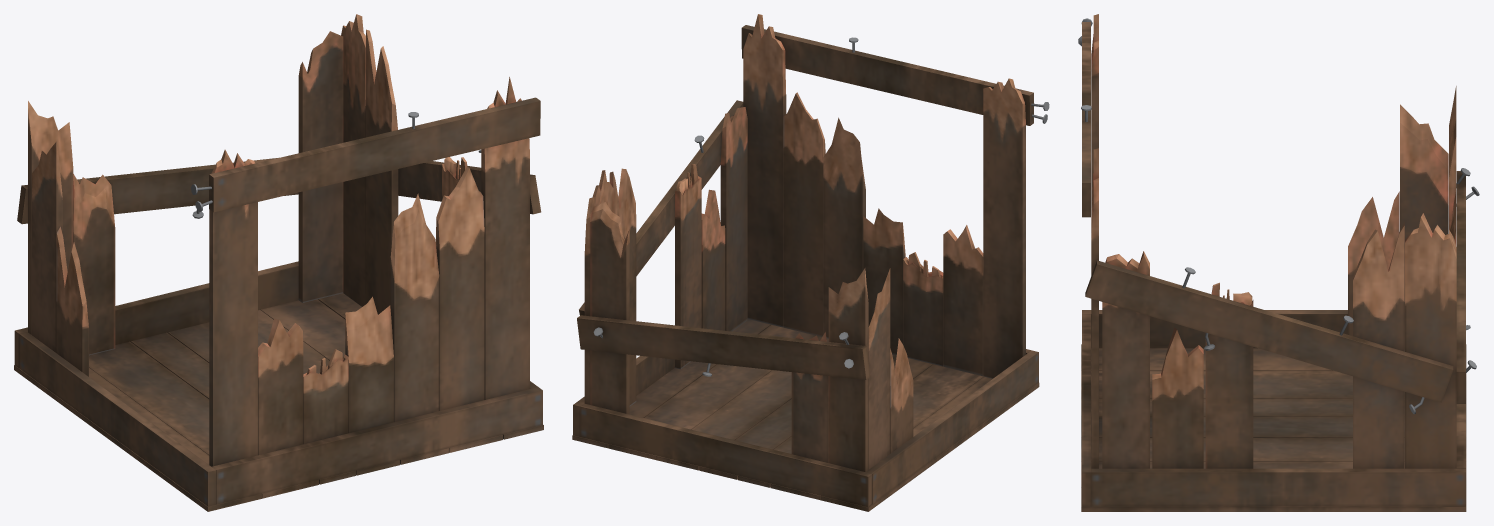
File: DamagedCrate02.glb
3 renders of one model, left to right at view 1: azimuth 30°, elevation 25°; view 2: azimuth 150°, elevation 25°; view 3: azimuth 270°, elevation 25°, orthographic. The views are drawn at different scales.
Visible parts, largest first — view 1: Cube_004; view 2: Cube_004; view 3: Cube_004.
Boxes of the visible parts, box(x1,y1,x2,y2) form: Cube_004: box(14, 14, 543, 511); Cube_004: box(572, 14, 1049, 511); Cube_004: box(1078, 14, 1479, 511).
Bounding box in the file's own units: 0.8399 × 0.8051 × 0.8335.
1 material, 1 textured.
